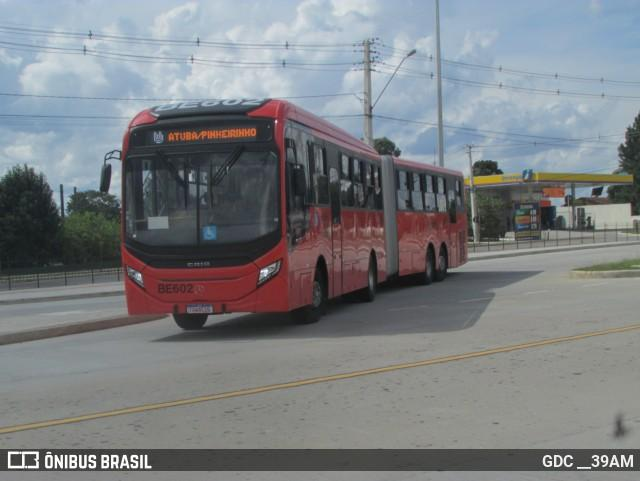ATUBA PINHEIRINHO: (165, 123, 261, 143)
